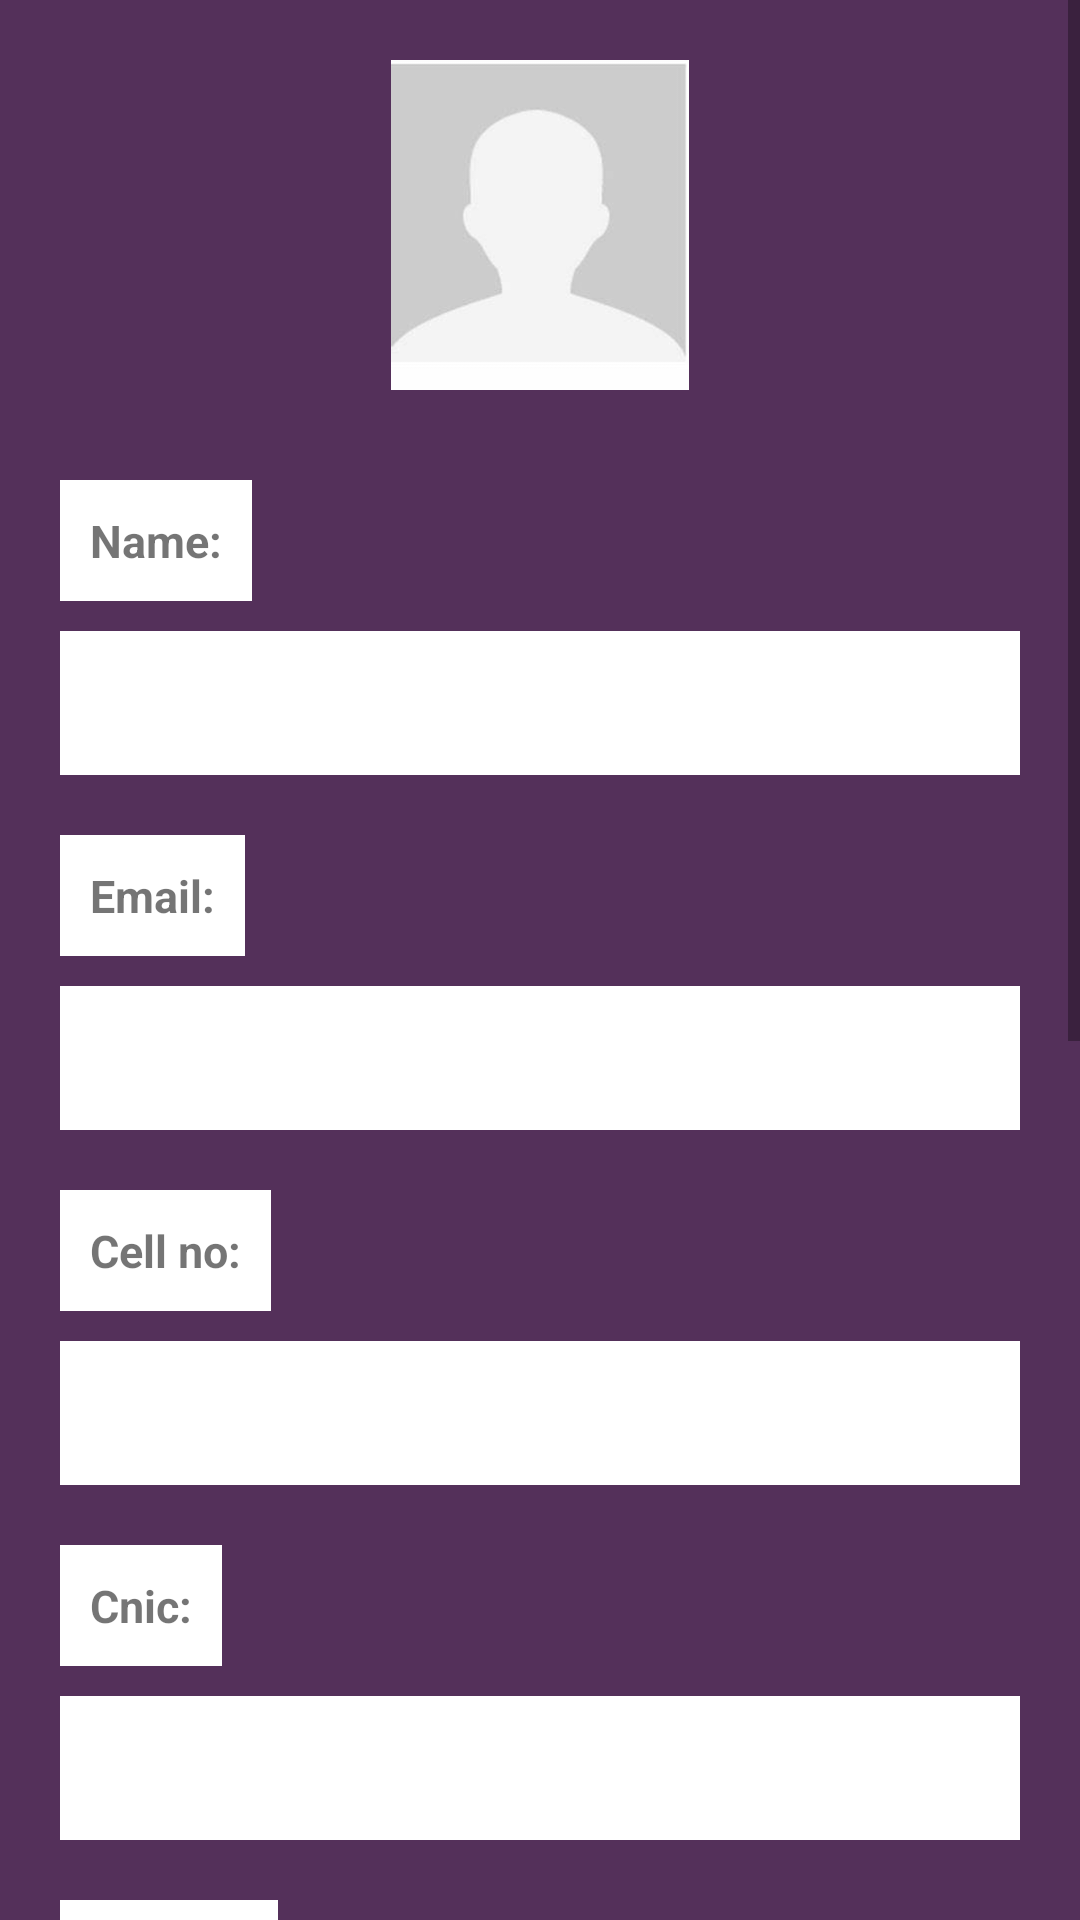

Icons on this 1080*1920 Android screen, each with its box as bbox=(x1, y1, x2, y2):
profile: bbox=(391, 60, 689, 390)
